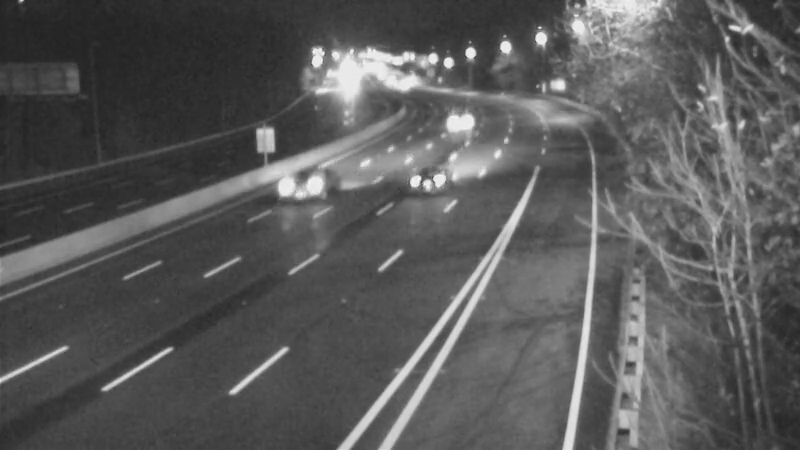vehicle: (380, 139, 460, 219), (270, 146, 350, 226), (430, 98, 480, 148)
